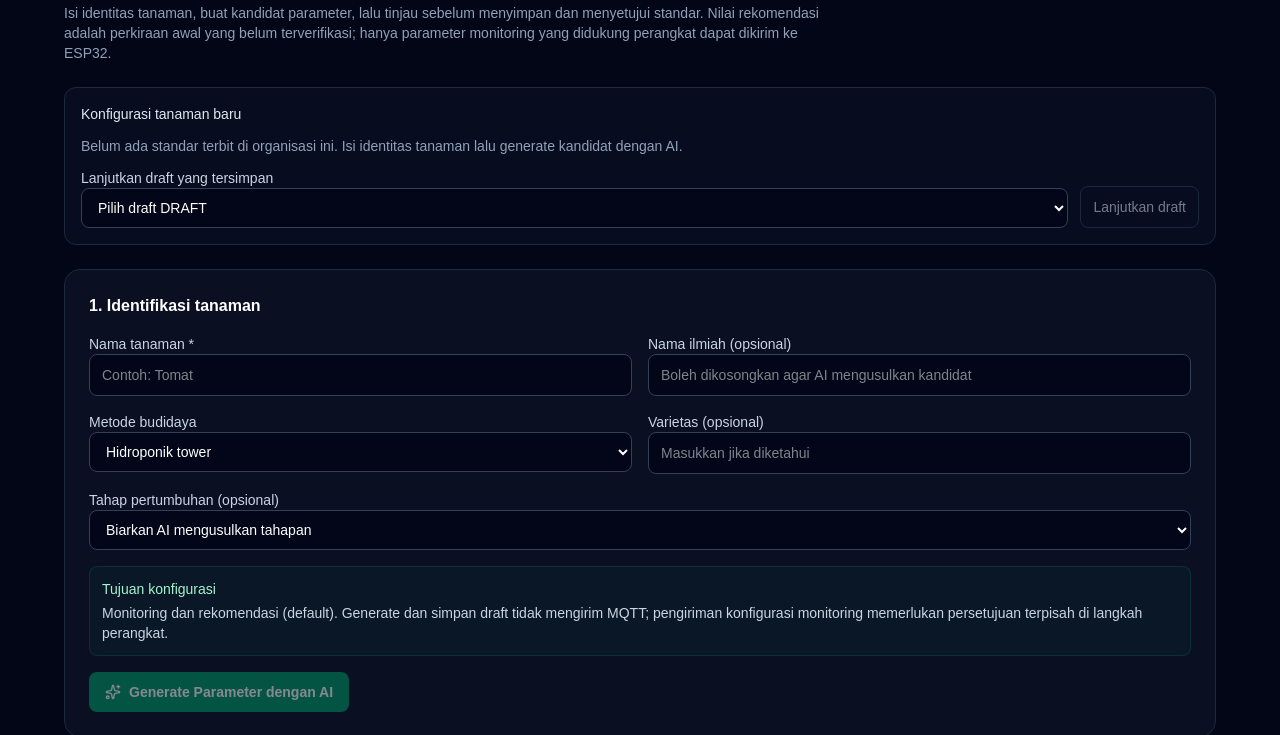
Scenario: AI Plant Setup page › saves reviewed edits, publishes explicitly, and adopts the published version to the existing profile
Select "Tomat · Solanum lycopersicum · v2" in the dropdown labelled "Lanjutkan draft yang tersimpan": x=575, y=208 top-left (81, 188), bottom-right (1068, 228)
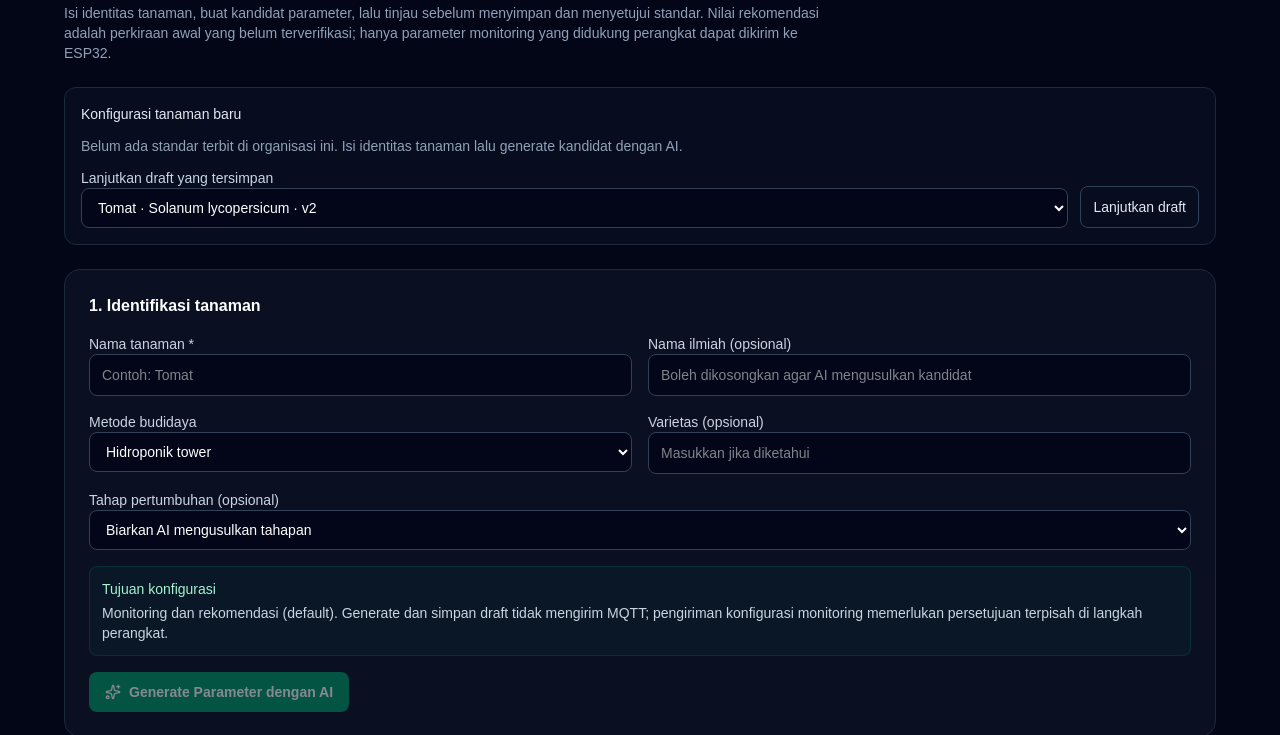
Click the button "Lanjutkan draft": x=1140, y=207 top-left (1080, 186), bottom-right (1199, 228)
(page scrolled)
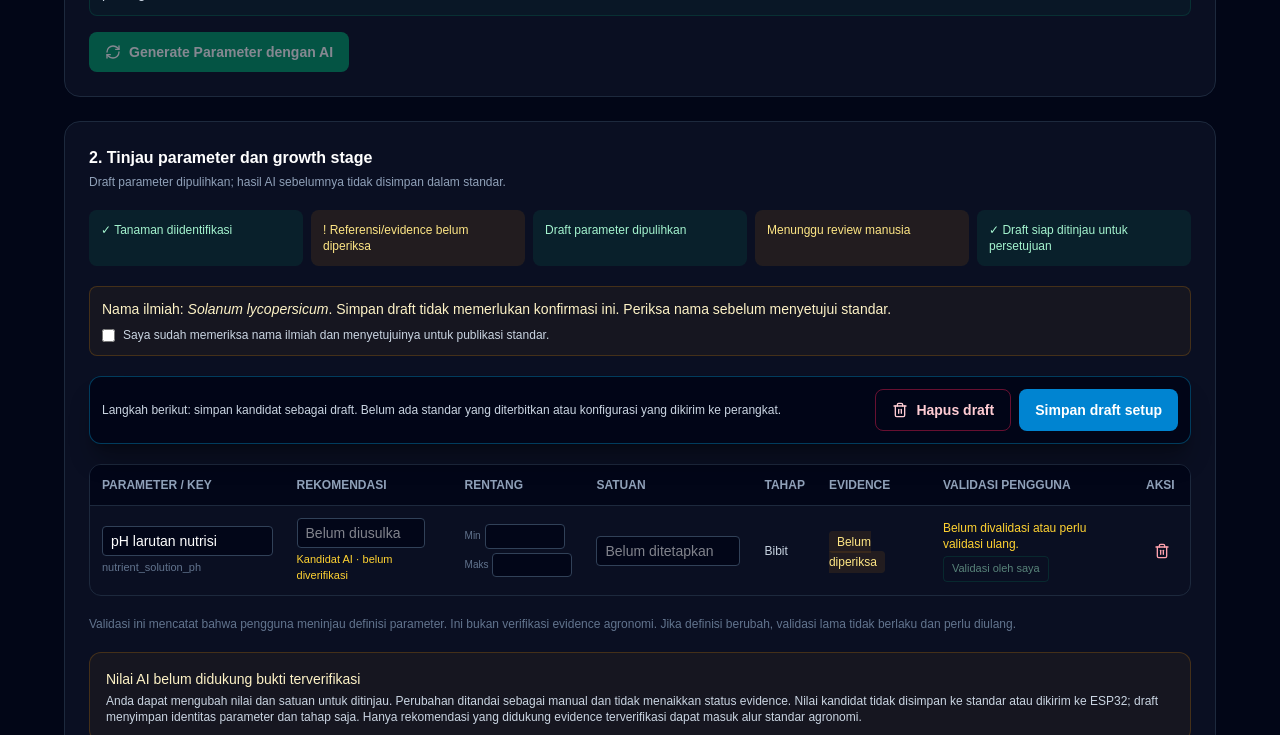
Click the checkbox labelled "Saya sudah memeriksa nama ilmiah": x=108, y=336 top-left (102, 329), bottom-right (115, 342)
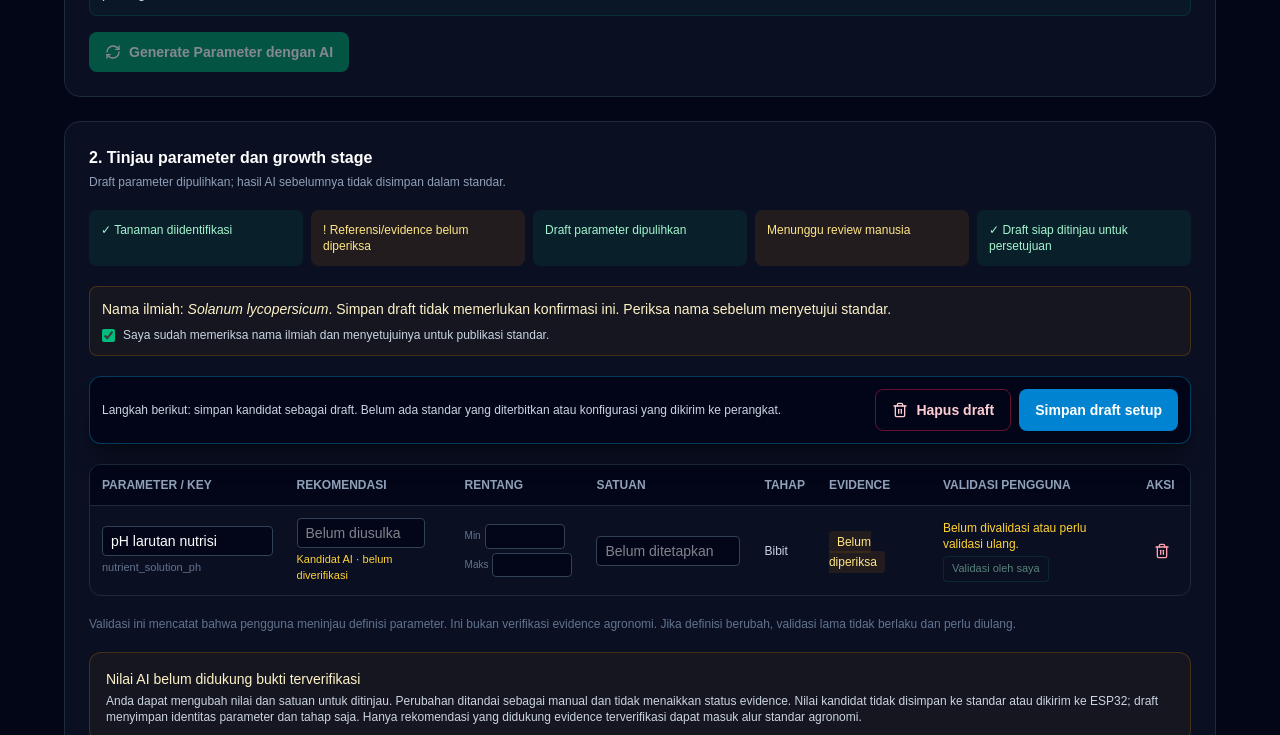
Click the button "Simpan draft setup": x=1099, y=410 top-left (1019, 389), bottom-right (1178, 431)
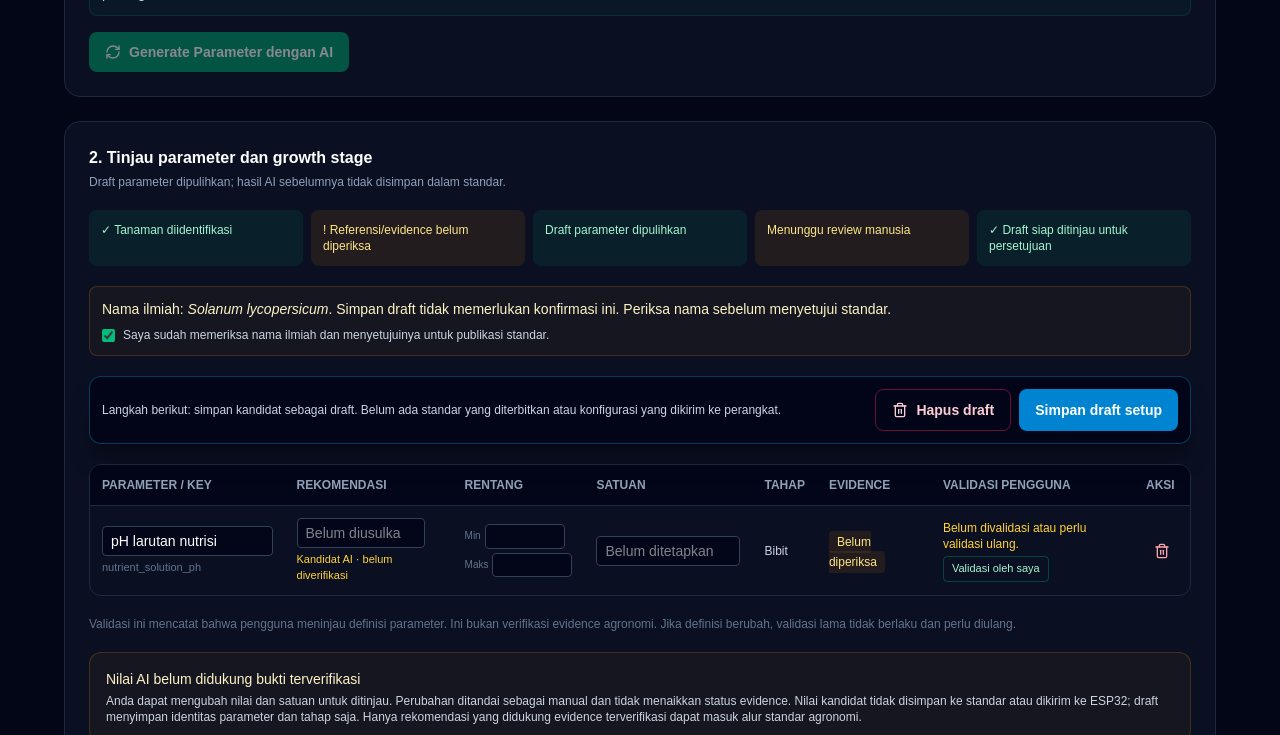
Click the button with aria-label "Validasi nutrient_solution_ph oleh saya": x=996, y=569 top-left (943, 556), bottom-right (1049, 582)
(page scrolled)
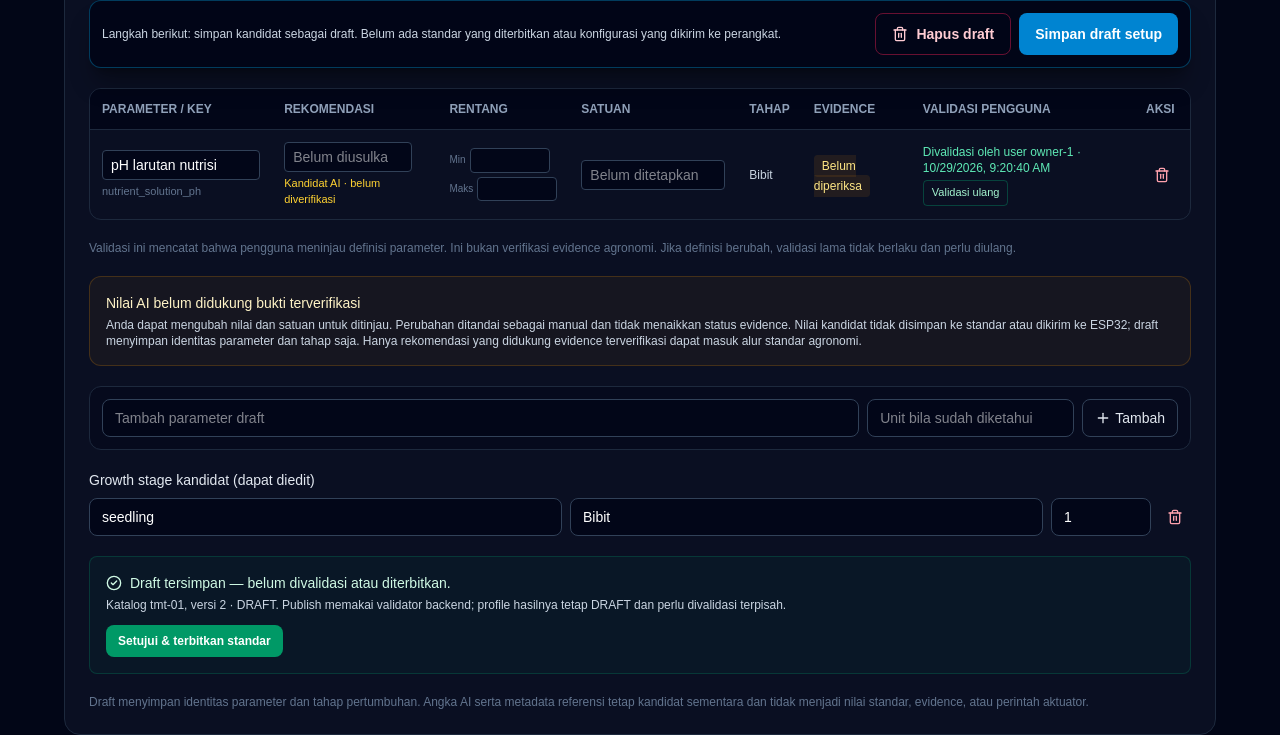
Check: the text "Divalidasi oleh user owner-1 · 10/29/2026, 9:20:40 AM" is shown, box top-left (923, 145), bottom-right (1081, 175)
Click the button "Setujui & terbitkan standar": x=194, y=641 top-left (106, 625), bottom-right (283, 657)
(page scrolled)
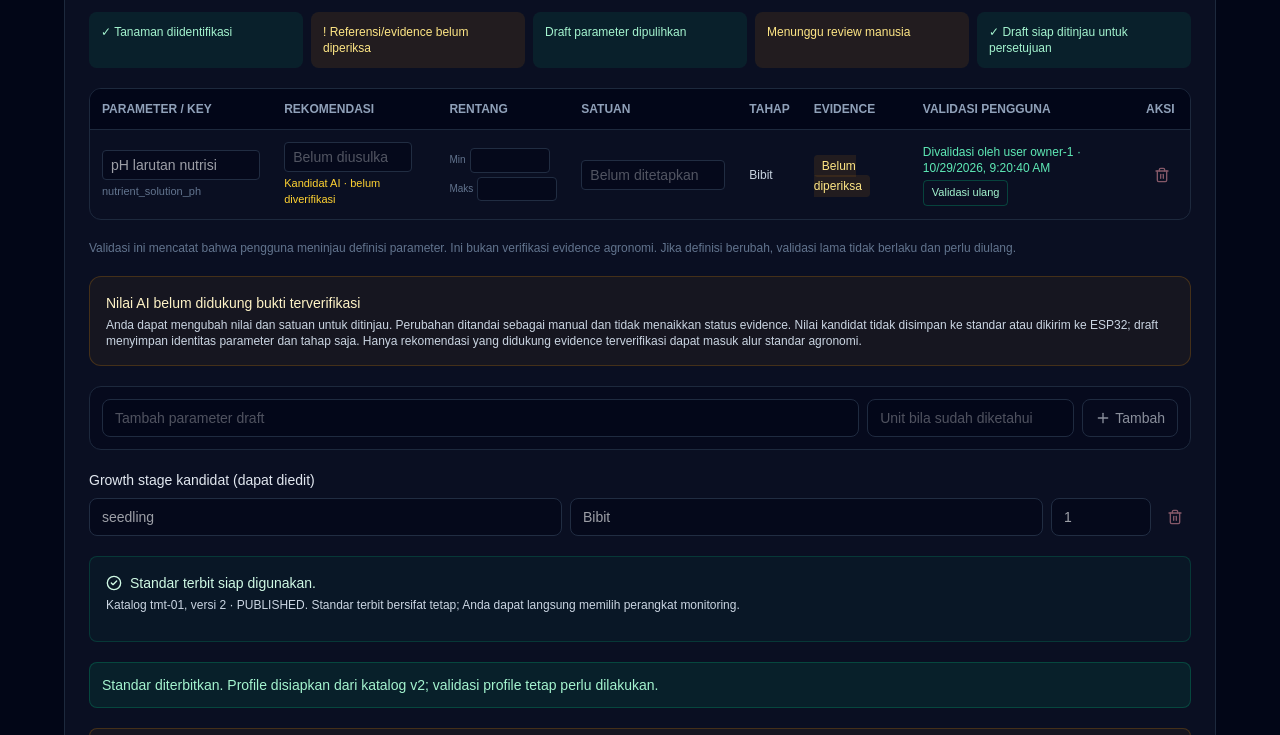
Check: the text "Standar diterbitkan. Profile disiapkan" is shown, box top-left (102, 677), bottom-right (658, 693)
